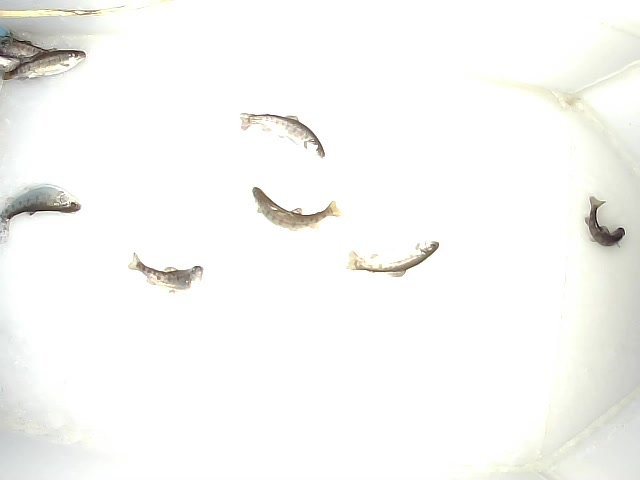fish: (238, 110, 326, 161), (251, 186, 344, 233), (1, 182, 83, 235), (344, 239, 440, 278), (127, 250, 205, 295), (1, 49, 88, 82), (583, 193, 627, 251)
